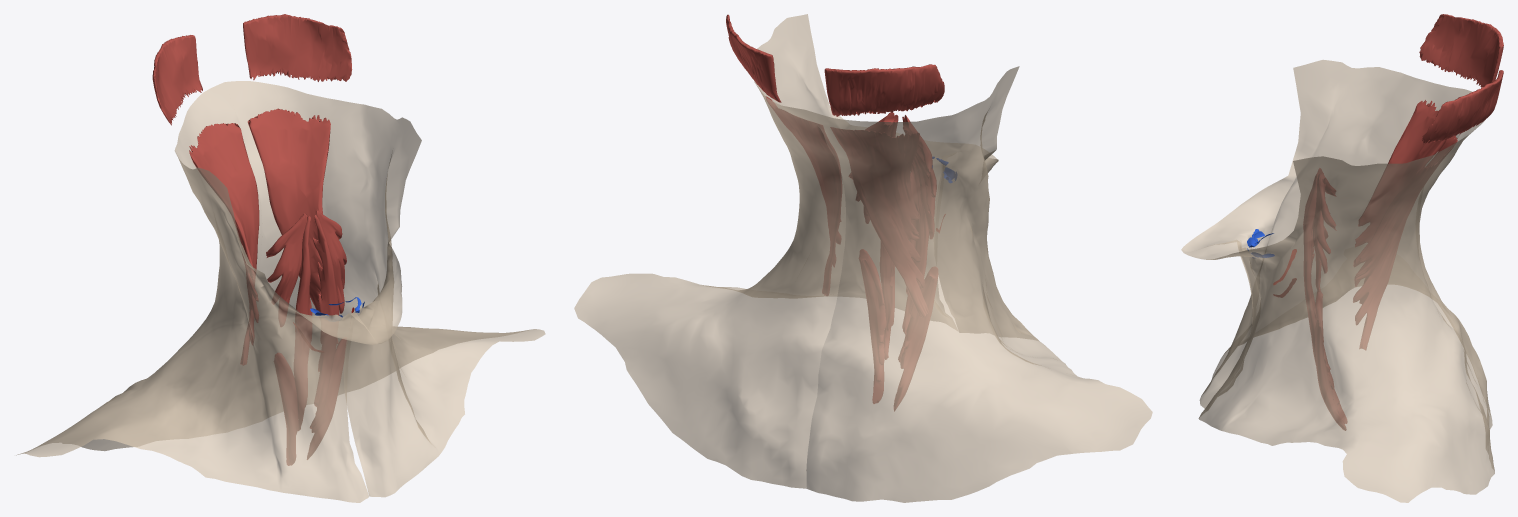
Rendered from muscular.neck.glb.
3 views of the same model, side by side, from view 1: azimuth 30°, elevation 25°; view 2: azimuth 150°, elevation 25°; view 3: azimuth 270°, elevation 25° (orthographic). The views are drawn at different scales.
Visible parts, largest first — view 1: right_superficial_investing_cervical_fascia, left_superficial_investing_cervical_fascia, left_spinalis_capitis_muscle, left_occipitalis_muscle, right_spinalis_capitis_muscle, right_longus_colli_muscle, left_longus_colli_muscle, right_occipitalis_muscle; view 2: right_superficial_investing_cervical_fascia, left_superficial_investing_cervical_fascia, right_spinalis_capitis_muscle, right_occipitalis_muscle, right_longus_colli_muscle, left_longus_colli_muscle, left_spinalis_capitis_muscle, left_occipitalis_muscle; view 3: left_superficial_investing_cervical_fascia, right_superficial_investing_cervical_fascia, left_spinalis_capitis_muscle, right_occipitalis_muscle, right_spinalis_capitis_muscle, left_longus_colli_muscle, left_occipitalis_muscle, right_longus_colli_muscle.
Part boxes in pixels (x1,y1,x2,y2): right_superficial_investing_cervical_fascia: (16, 82, 380, 502); left_superficial_investing_cervical_fascia: (224, 81, 545, 497); left_spinalis_capitis_muscle: (247, 108, 338, 343); left_occipitalis_muscle: (243, 14, 352, 81); right_spinalis_capitis_muscle: (189, 123, 259, 365); right_longus_colli_muscle: (266, 213, 312, 465); left_longus_colli_muscle: (307, 209, 346, 459); right_occipitalis_muscle: (152, 35, 202, 125); right_superficial_investing_cervical_fascia: (805, 66, 1152, 502); left_superficial_investing_cervical_fascia: (574, 14, 974, 488); right_spinalis_capitis_muscle: (830, 127, 928, 317); right_occipitalis_muscle: (824, 64, 944, 116); right_longus_colli_muscle: (894, 115, 937, 411); left_longus_colli_muscle: (849, 112, 898, 403); left_spinalis_capitis_muscle: (766, 96, 841, 295); left_occipitalis_muscle: (726, 14, 781, 102); left_superficial_investing_cervical_fascia: (1181, 120, 1494, 502); right_superficial_investing_cervical_fascia: (1181, 59, 1492, 429); left_spinalis_capitis_muscle: (1353, 135, 1457, 349); right_occipitalis_muscle: (1419, 14, 1503, 87); right_spinalis_capitis_muscle: (1353, 100, 1446, 303); left_longus_colli_muscle: (1304, 174, 1346, 430); left_occipitalis_muscle: (1421, 70, 1503, 144); right_longus_colli_muscle: (1303, 168, 1347, 423).
Bounding box in the file's own units: 0.3327 × 0.2492 × 0.1841.
